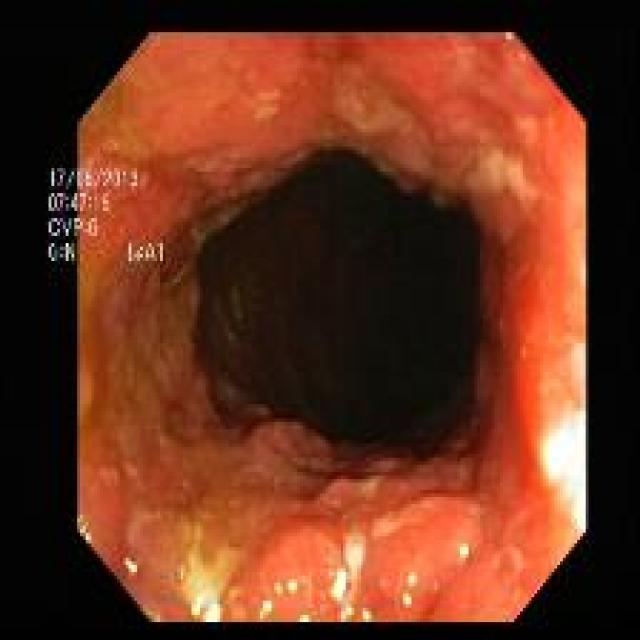ulcerative-colitis: (80, 33, 585, 621)
